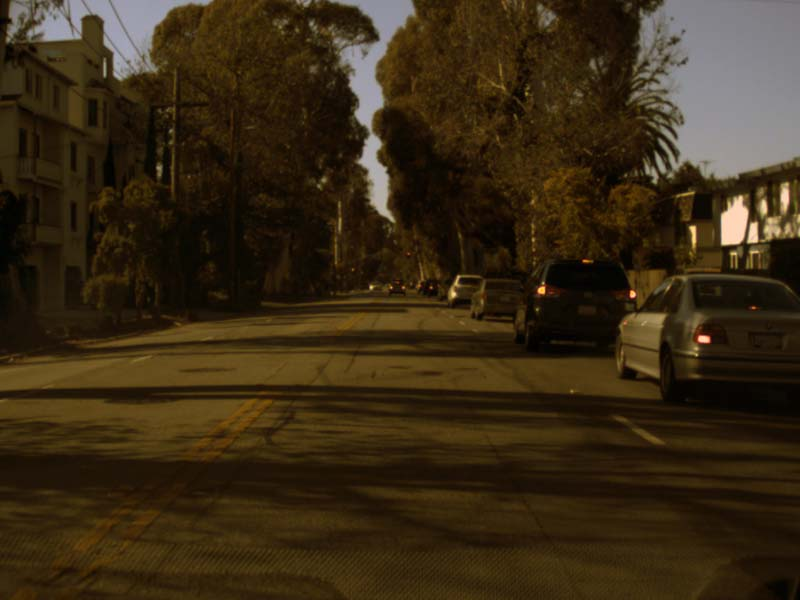Red: (406, 251, 409, 258)
Yellow: (350, 267, 354, 272)
